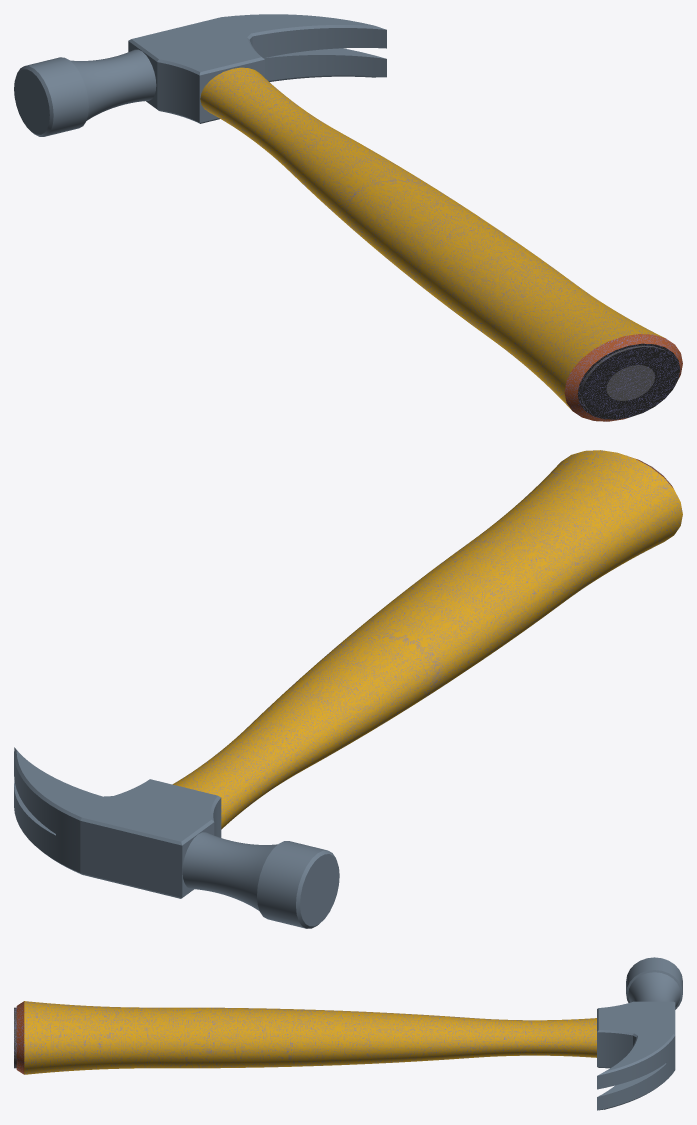
Rendered from hammer.dae.
3 renders of one model, top to bottom at view 1: azimuth 30°, elevation 25°; view 2: azimuth 150°, elevation 25°; view 3: azimuth 270°, elevation 25°, orthographic. The views are drawn at different scales.
Parts seen in each view (by area): view 1: group_2 (×4), group_1, group_0; view 2: group_2, group_1, group_0; view 3: group_2 (×2), group_1, group_0.
Boxes of the visible parts, x1,y1,x2,y2 form: group_2 (×4): (200, 67, 682, 421); group_1: (128, 14, 386, 123); group_0: (14, 49, 156, 136); group_2: (172, 450, 682, 829); group_1: (14, 747, 221, 898); group_0: (182, 832, 339, 928); group_2 (×2): (16, 1001, 596, 1074); group_1: (597, 1001, 675, 1110); group_0: (626, 957, 682, 1009).
Bounding box in the file's own units: 376 × 941 × 94.41.
